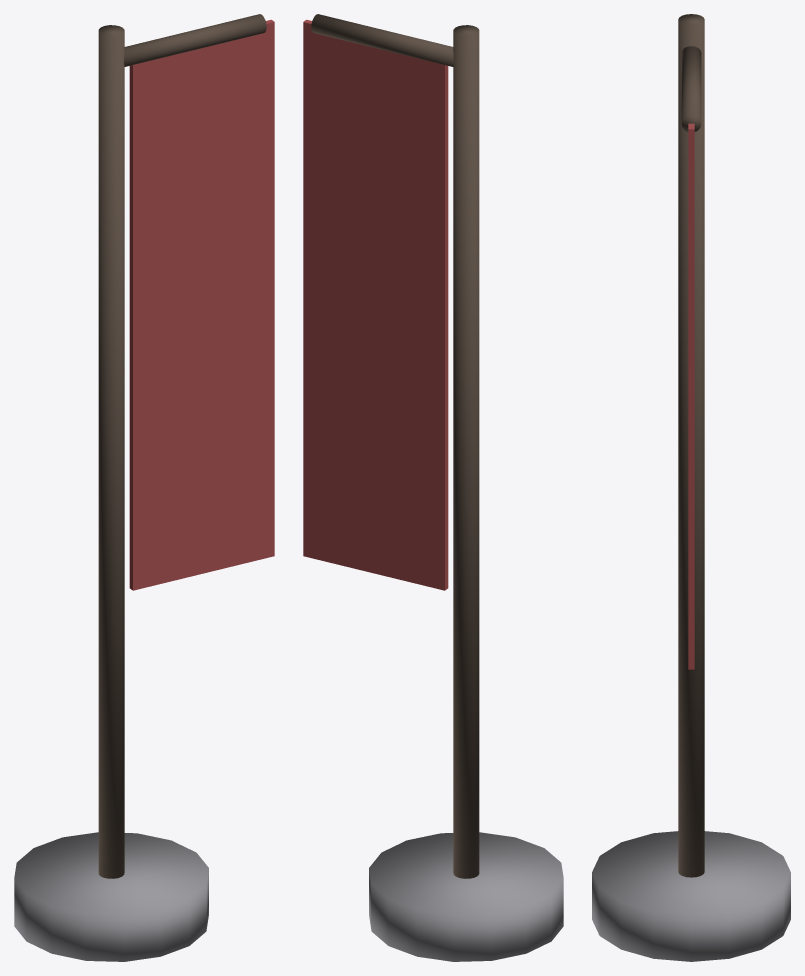
File: prop_nobori.glb
The picture shows the model from 3 angles, left to right: view 1: azimuth 30°, elevation 25°; view 2: azimuth 150°, elevation 25°; view 3: azimuth 270°, elevation 25°; orthographic projection.
Visible parts, largest first — view 1: nobori; view 2: nobori; view 3: nobori.
Boxes of the visible parts, box(x1,y1,x2,y2) form: nobori: box(14, 14, 274, 961); nobori: box(303, 14, 563, 961); nobori: box(592, 14, 790, 961).
Bounding box in the file's own units: 0.87 × 3 × 0.6.
